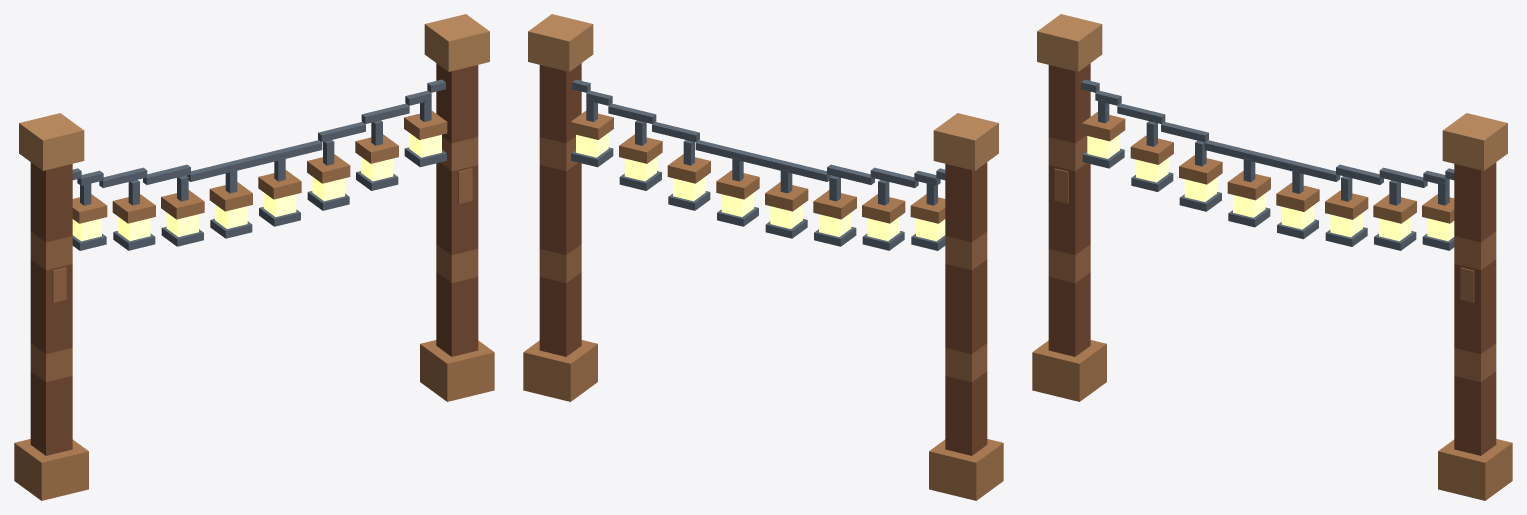
Rendered from FestivalLightString_4x1.fbx.
3 views of the same model, side by side, from view 1: azimuth 30°, elevation 25°; view 2: azimuth 150°, elevation 25°; view 3: azimuth 330°, elevation 25° (orthographic).
Visible parts, largest first — view 1: Ground square foot, Ground square foot.001, Top square cap.001, Top square cap, String post voxel.005, String post voxel.010, String post voxel.004, String post voxel.017, String post voxel.003, String post voxel.008, String post voxel.009, String post voxel.016 (+30 smaller); view 2: Ground square foot, Ground square foot.001, Top square cap.001, Top square cap, String post voxel.005, String post voxel.018, String post voxel.006, String post voxel.010, String post voxel.004, String post voxel.017, String post voxel.003, String post voxel.007 (+30 smaller); view 3: Ground square foot, Ground square foot.001, Top square cap, Top square cap.001, String post voxel.017, String post voxel.022, String post voxel.005, String post voxel.016, String post voxel.015, String post voxel.020, String post voxel.004, String post voxel.021 (+29 smaller).
Boxes of the visible parts, left/top/right/bottom form: Ground square foot: left=14, top=439, right=88, bottom=500; Ground square foot.001: left=420, top=340, right=494, bottom=401; Top square cap.001: left=424, top=14, right=489, bottom=71; Top square cap: left=19, top=113, right=84, bottom=170; String post voxel.005: left=30, top=315, right=72, bottom=354; String post voxel.010: left=30, top=175, right=72, bottom=214; String post voxel.004: left=30, top=343, right=72, bottom=381; String post voxel.017: left=436, top=216, right=478, bottom=254; String post voxel.003: left=30, top=371, right=72, bottom=409; String post voxel.008: left=30, top=231, right=72, bottom=270; String post voxel.009: left=30, top=203, right=72, bottom=242; String post voxel.016: left=436, top=244, right=478, bottom=282; Ground square foot: left=929, top=439, right=1003, bottom=500; Ground square foot.001: left=523, top=340, right=597, bottom=401; Top square cap.001: left=528, top=14, right=593, bottom=71; Top square cap: left=933, top=113, right=998, bottom=170; String post voxel.005: left=945, top=315, right=987, bottom=354; String post voxel.018: left=539, top=188, right=581, bottom=227; String post voxel.006: left=945, top=287, right=987, bottom=326; String post voxel.010: left=945, top=175, right=987, bottom=214; String post voxel.004: left=945, top=343, right=987, bottom=381; String post voxel.017: left=539, top=216, right=581, bottom=254; String post voxel.003: left=945, top=371, right=987, bottom=409; String post voxel.007: left=945, top=259, right=987, bottom=298; Ground square foot: left=1032, top=340, right=1106, bottom=401; Ground square foot.001: left=1438, top=439, right=1512, bottom=500; Top square cap: left=1037, top=14, right=1102, bottom=71; Top square cap.001: left=1442, top=113, right=1507, bottom=170; String post voxel.017: left=1454, top=315, right=1496, bottom=354; String post voxel.022: left=1454, top=175, right=1496, bottom=214; String post voxel.005: left=1048, top=216, right=1090, bottom=254; String post voxel.016: left=1454, top=343, right=1496, bottom=381; String post voxel.015: left=1454, top=371, right=1496, bottom=409; String post voxel.020: left=1454, top=231, right=1496, bottom=270; String post voxel.004: left=1048, top=244, right=1090, bottom=282; String post voxel.021: left=1454, top=203, right=1496, bottom=242.
Size of the model in its own units: 373 by 282 by 39.
